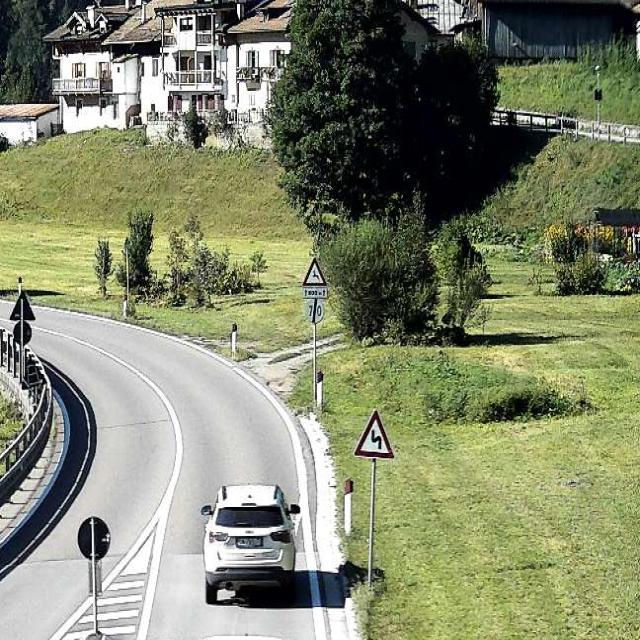car: (200, 482, 301, 602), (179, 633, 313, 640)
